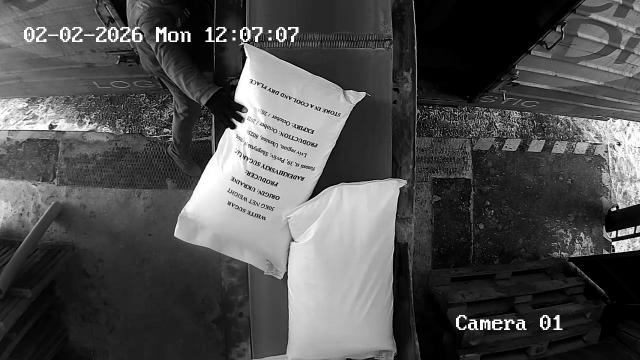bag: (175, 44, 360, 279), (286, 178, 408, 360)
